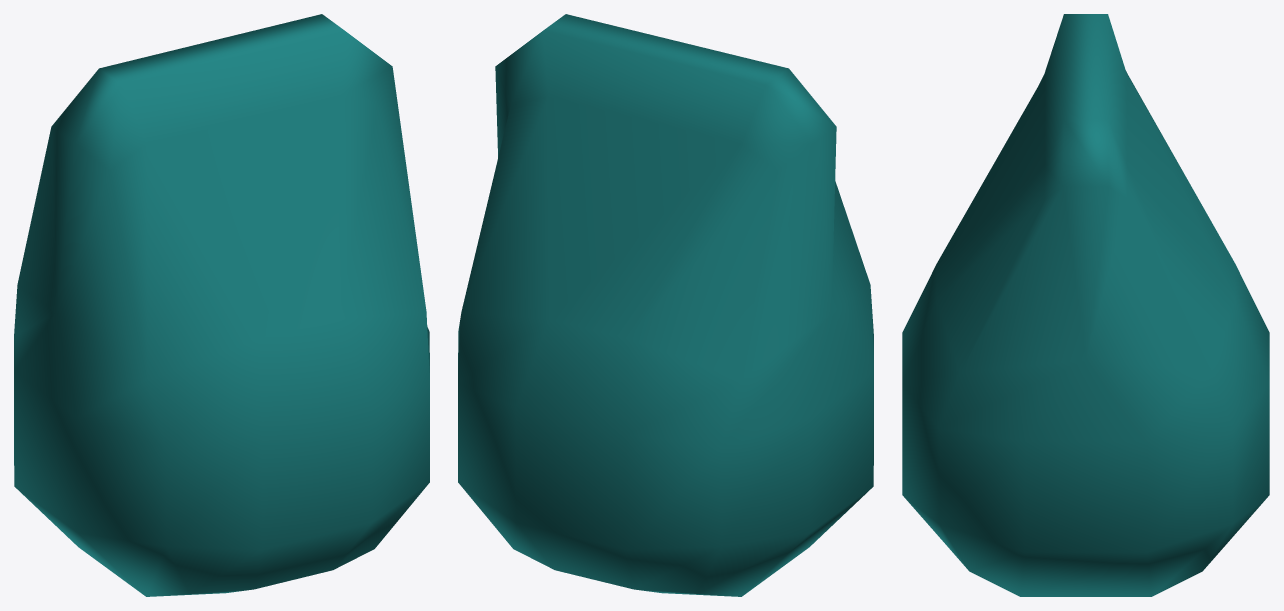
Rendered from kettlebell_collider.fbx.
3 views of the same model, side by side, from view 1: azimuth 30°, elevation 25°; view 2: azimuth 150°, elevation 25°; view 3: azimuth 270°, elevation 25° (orthographic). The views are drawn at different scales.
Visible parts, largest first — view 1: kettlebell_collider; view 2: kettlebell_collider; view 3: kettlebell_collider.
Boxes of the visible parts, x1,y1,x2,y2 form: kettlebell_collider: (14, 14, 429, 596); kettlebell_collider: (458, 14, 873, 596); kettlebell_collider: (902, 14, 1269, 596).
Bounding box in the file's own units: 18.51 × 24.9 × 17.31.
